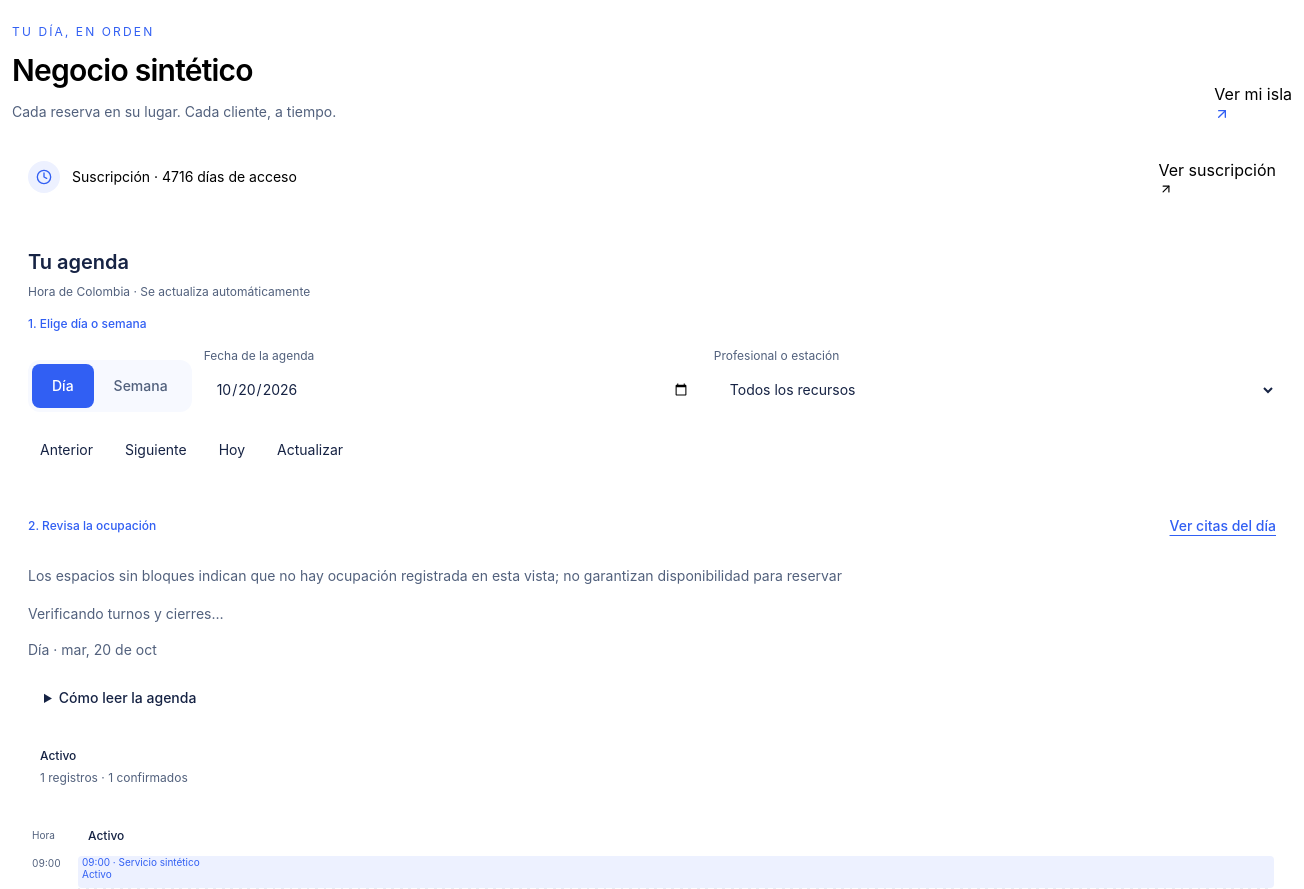
Test: owner agenda dashboard integration › navigationPreservesSelectedWeekday
Click the button "Semana": (141, 386) [94,364,188,408]
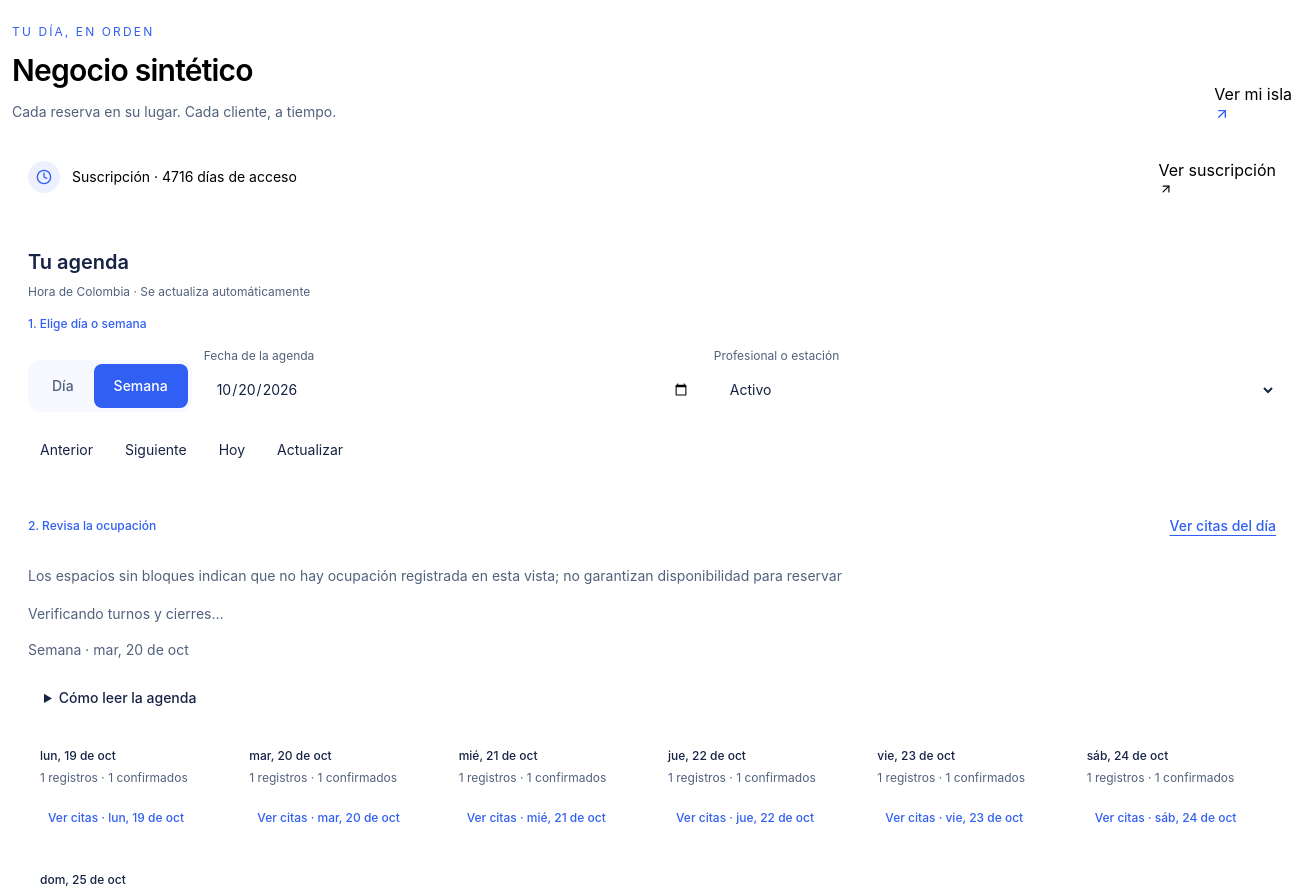
Click the button "Siguiente": (156, 450) [113,428,199,472]
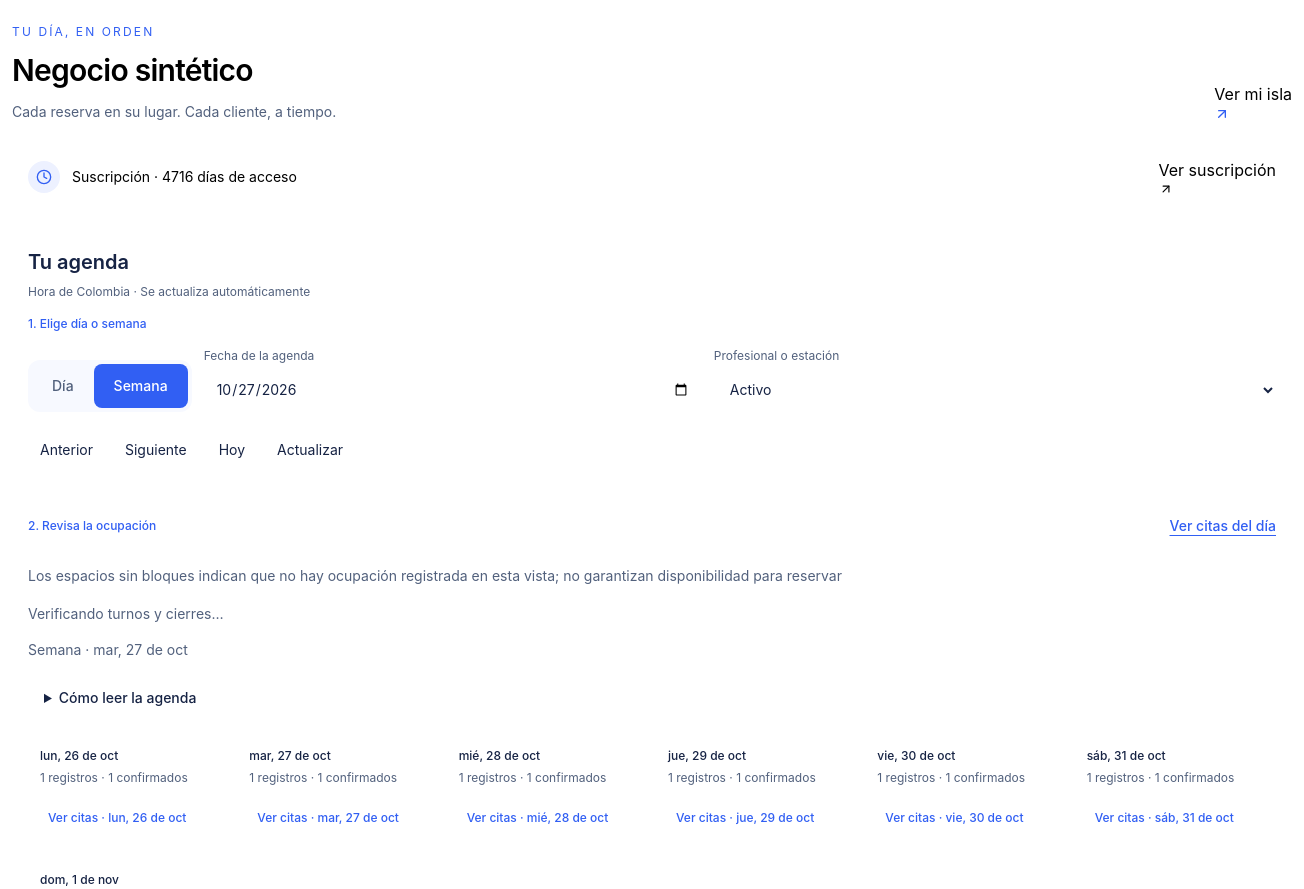
Check: the date field labelled "Fecha de la agenda" holds "2026-10-27", box [204,368,702,412]
Click the button "Anterior": (66, 450) [28,428,105,472]
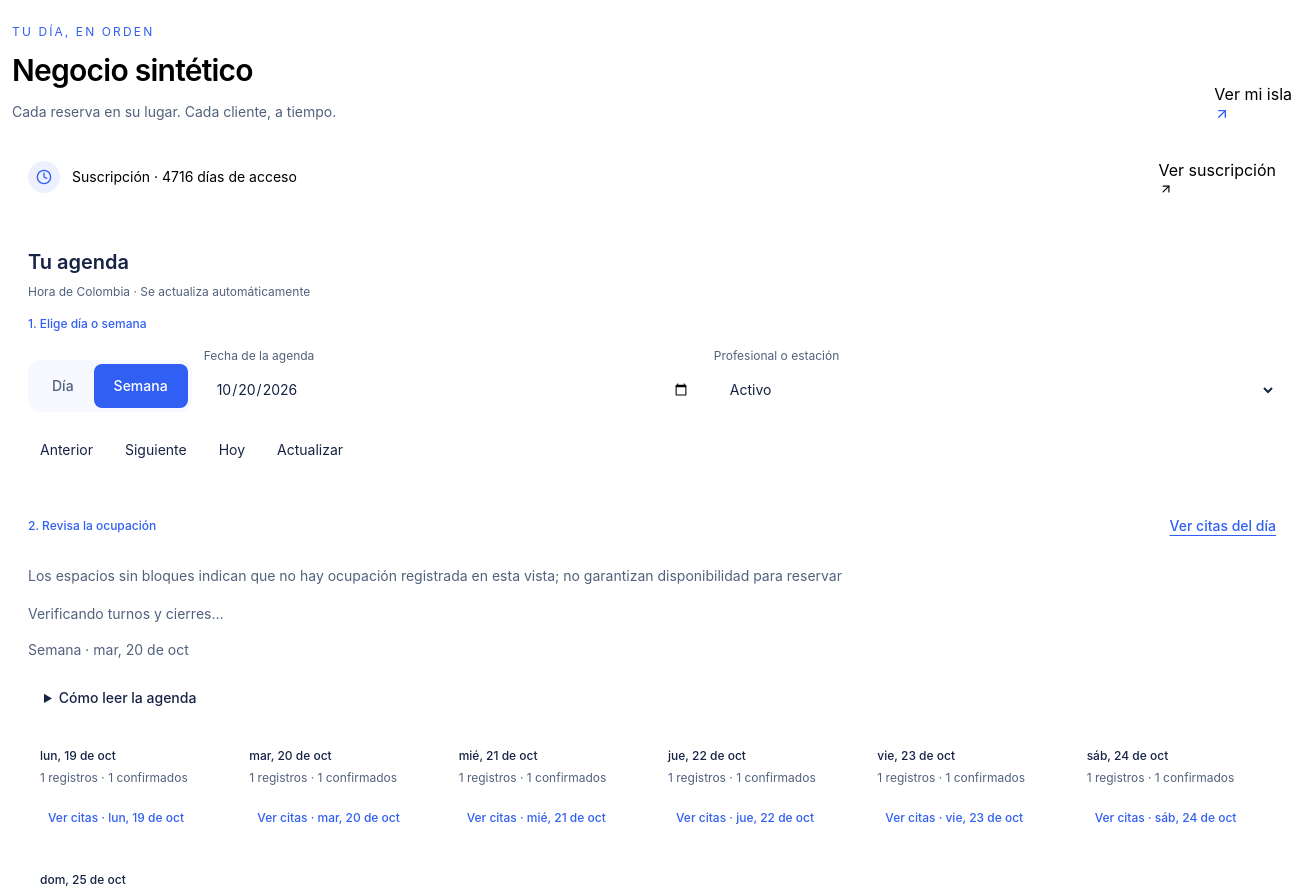
Check: the date field labelled "Fecha de la agenda" holds "2026-10-20", box [204,368,702,412]
